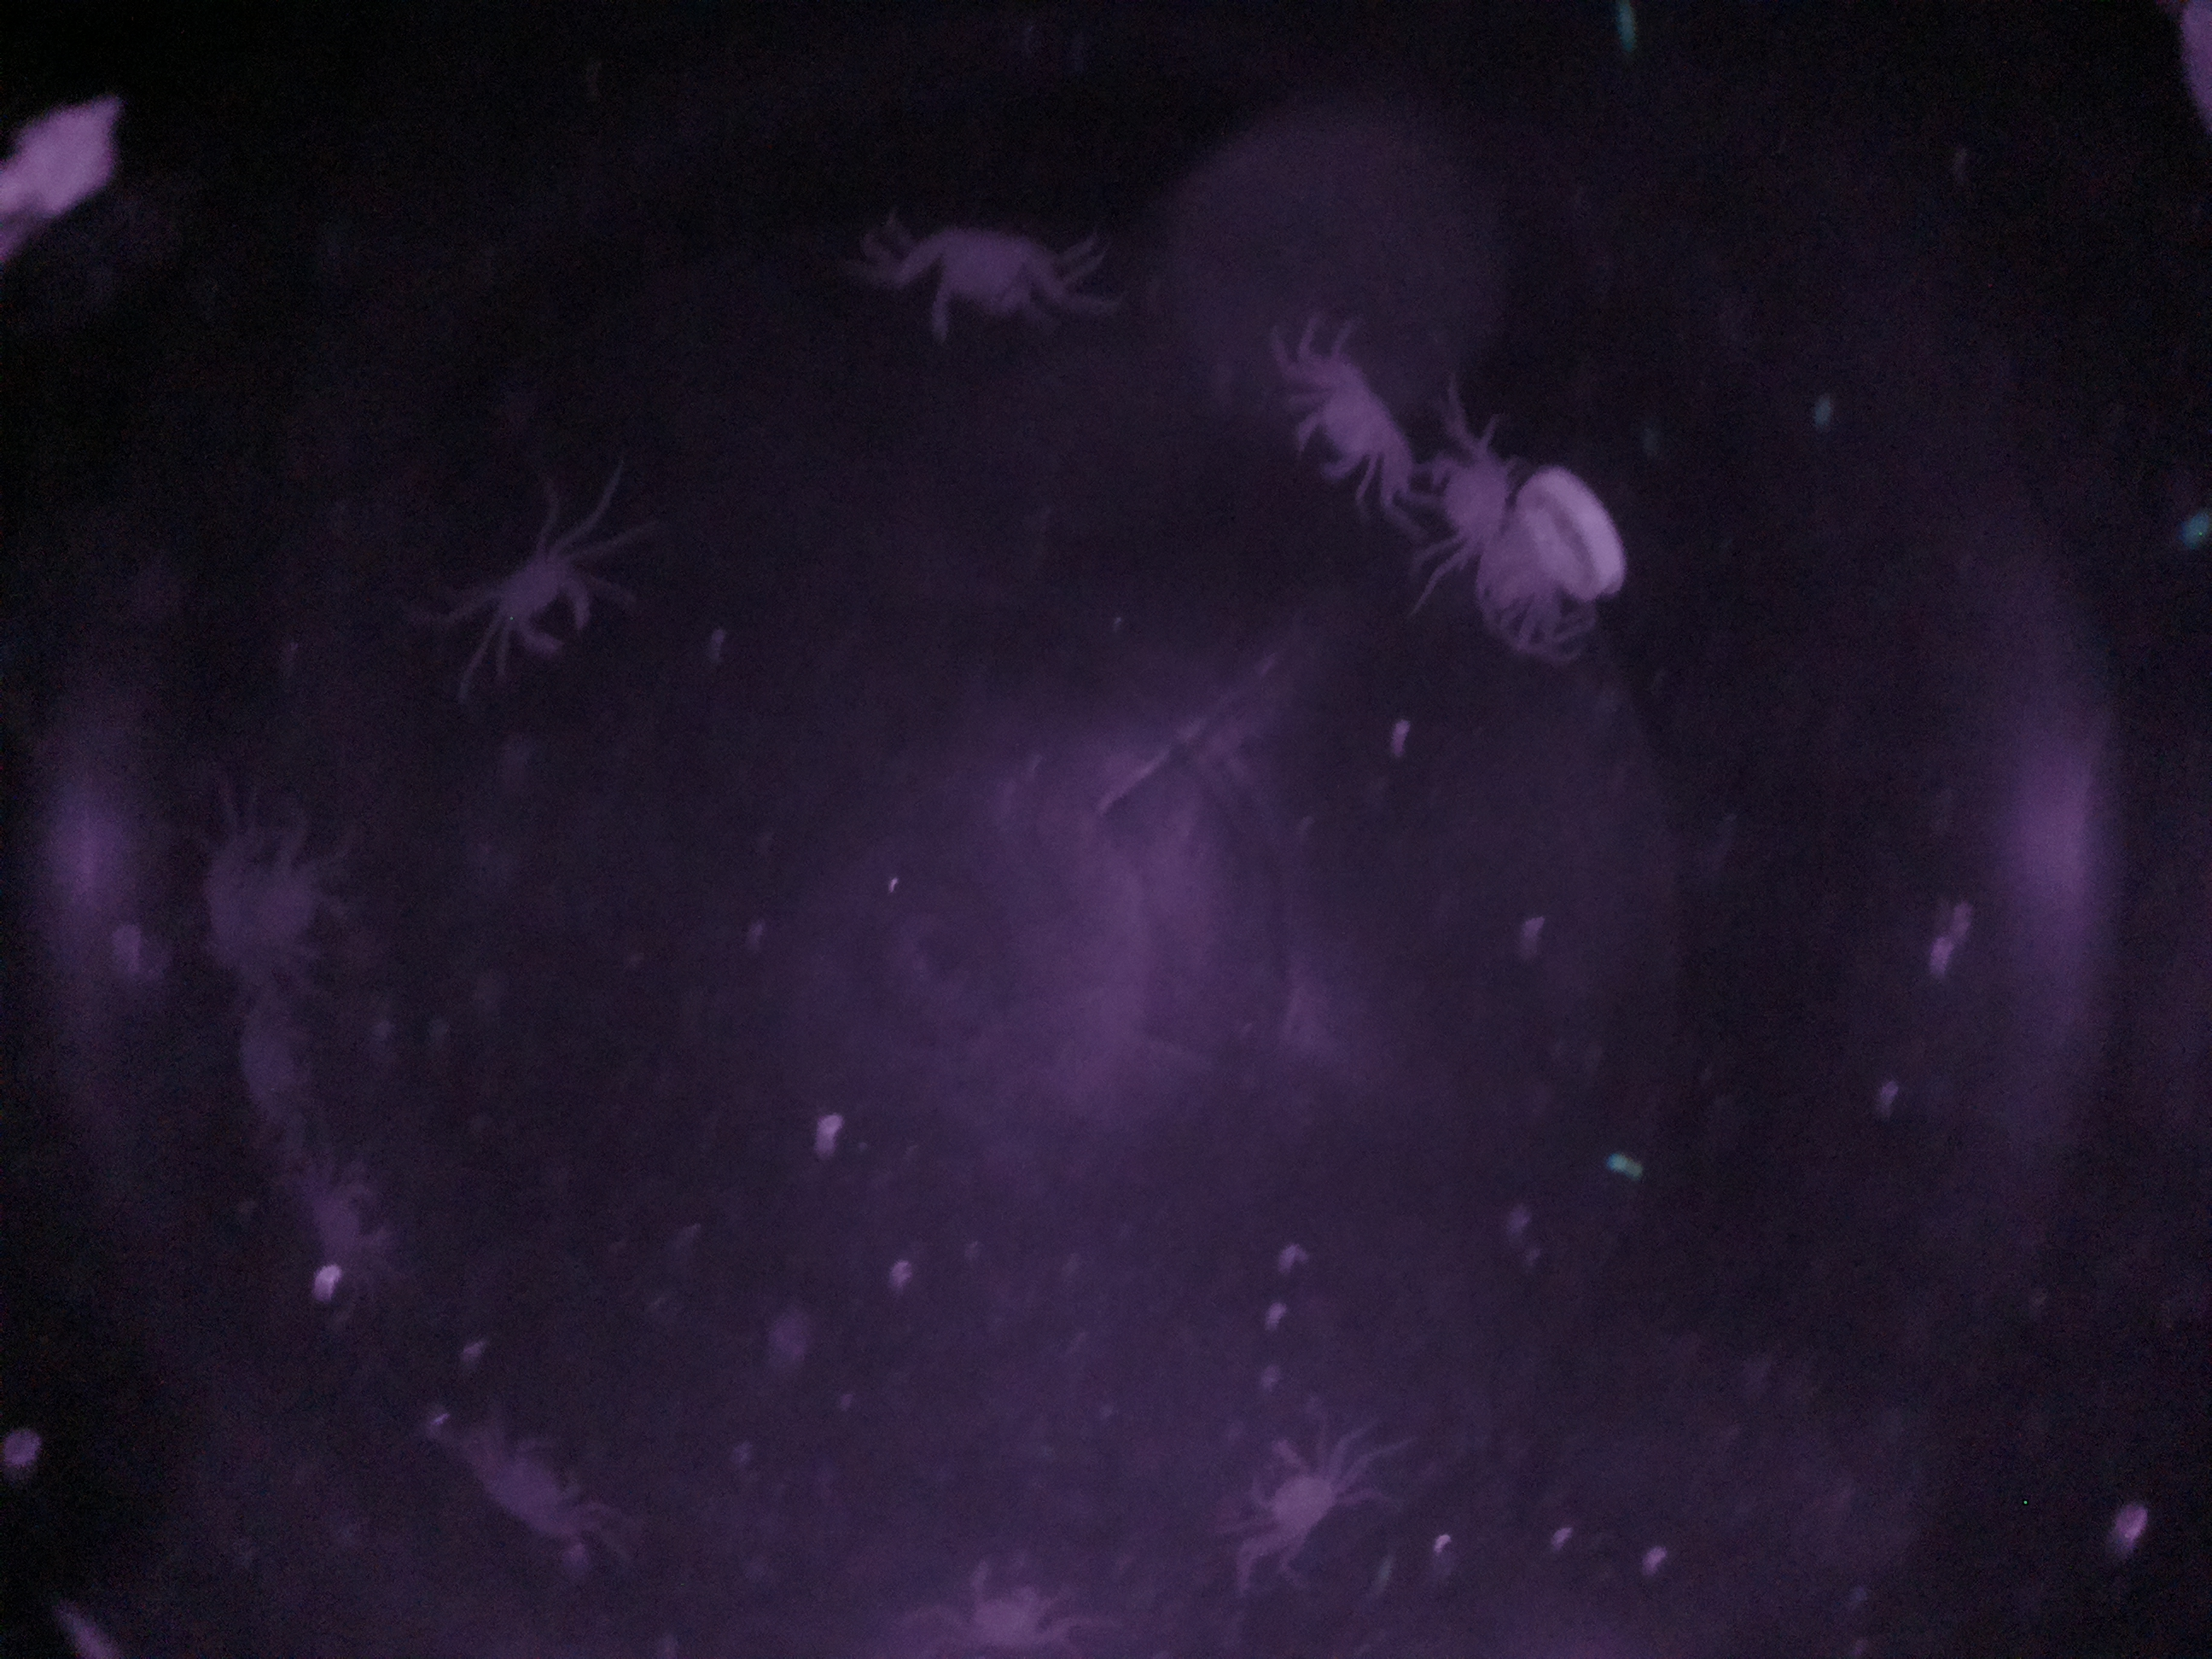Crab: (453, 481, 644, 685), (1275, 335, 1423, 514)
